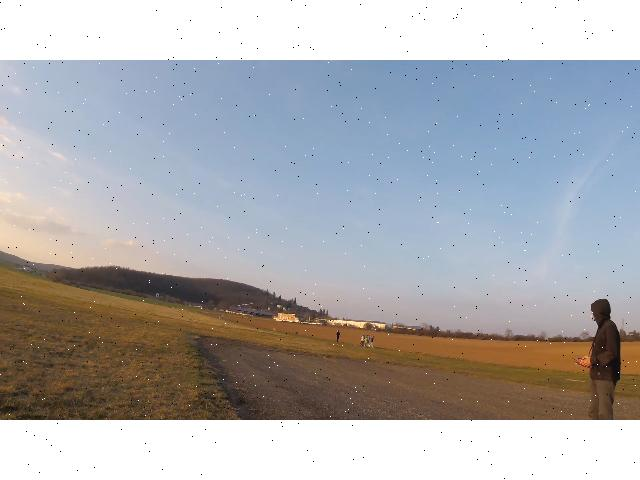Anti-Drone: (236, 300, 256, 312)
